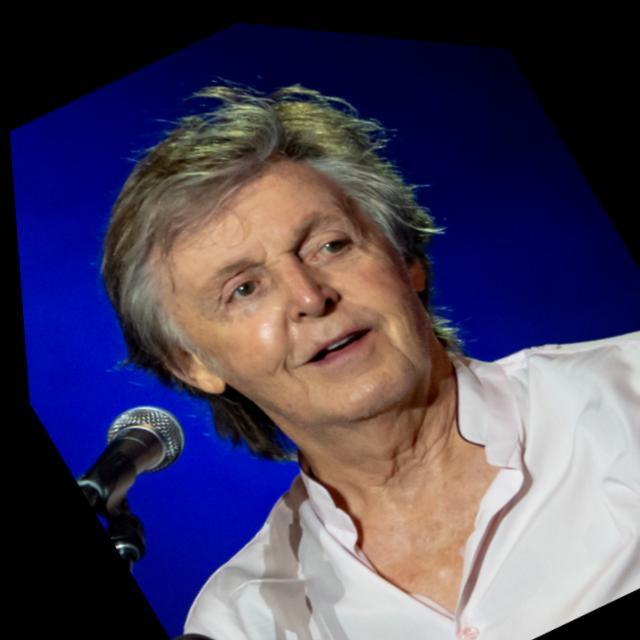Nonhelmet: (97, 77, 466, 461)
